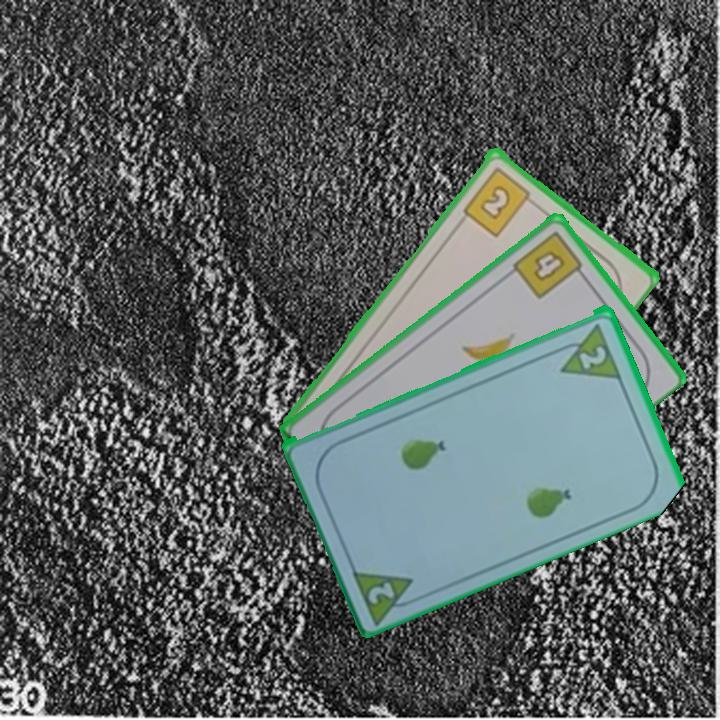2b: (459, 163, 540, 239)
2p: (348, 563, 425, 625), (576, 341, 610, 372)
4b: (509, 227, 590, 302)
